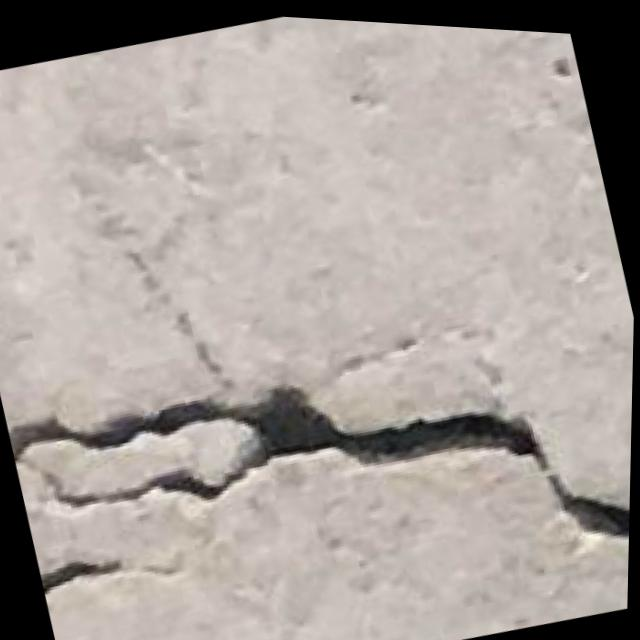Crack: (0, 236, 636, 640), (39, 515, 198, 619)
